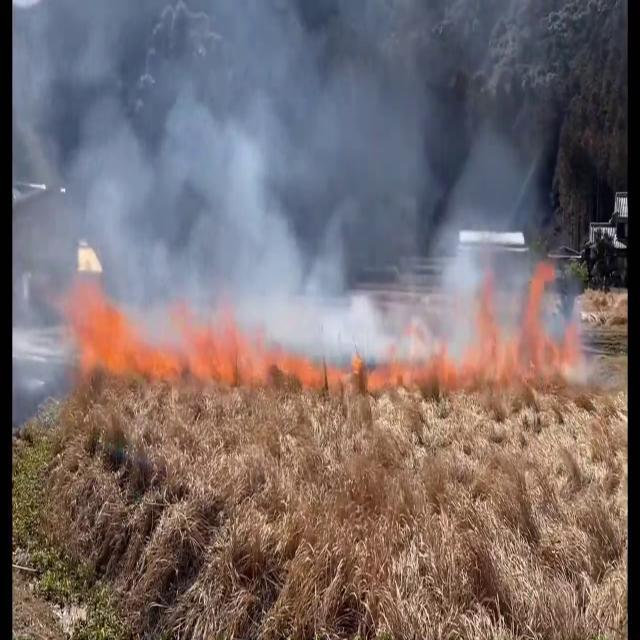Fire: (72, 270, 338, 420), (418, 269, 573, 399)
Smoke: (16, 0, 558, 329)
